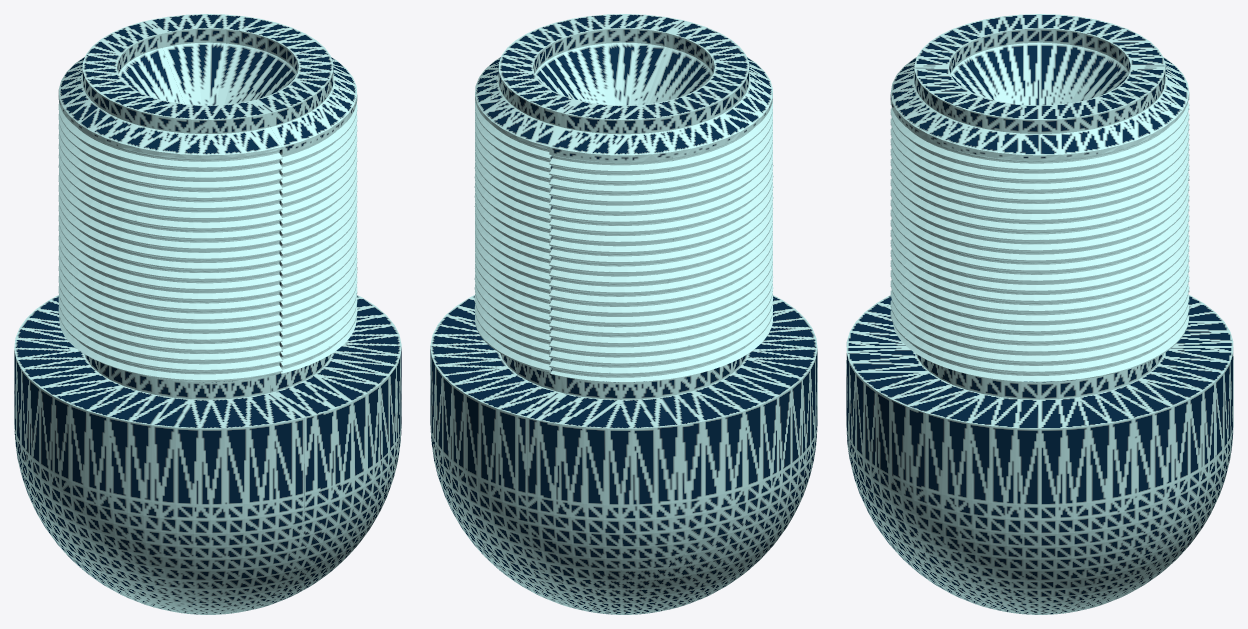
The model's file is Extra-Nozzle3-M.glb.
3 renders of one model, left to right at view 1: azimuth 30°, elevation 25°; view 2: azimuth 150°, elevation 25°; view 3: azimuth 270°, elevation 25°, orthographic.
Visible parts, largest first — view 1: nozzle3.002, nozzle3.001; view 2: nozzle3.002, nozzle3.001; view 3: nozzle3.001, nozzle3.002.
Boxes of the visible parts, box(x1,y1,x2,y2) form: nozzle3.002: box(14, 21, 304, 614); nozzle3.001: box(145, 14, 401, 608); nozzle3.002: box(527, 21, 817, 614); nozzle3.001: box(430, 14, 686, 607); nozzle3.001: box(846, 67, 1233, 614); nozzle3.002: box(846, 14, 1233, 439).
Bounding box in the file's own units: 0.5053 × 0.7607 × 0.5054.
1 material, 1 textured.
